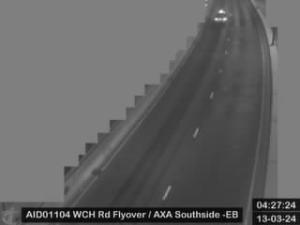vehicle: (214, 11, 228, 25)
